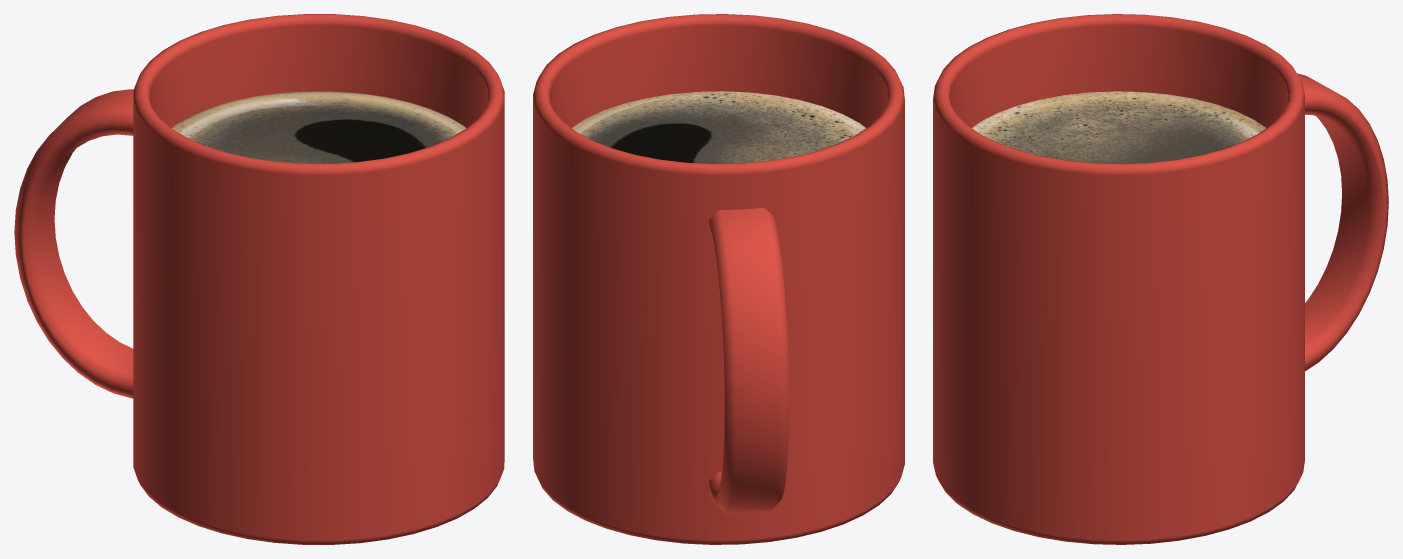
File: coffee-opt.glb
3 renders of one model, left to right at view 1: azimuth 30°, elevation 25°; view 2: azimuth 150°, elevation 25°; view 3: azimuth 270°, elevation 25°, orthographic.
Parts seen in each view (by area): view 1: Mug1_Mug_0, Mug1_Coffee_0; view 2: Mug1_Mug_0, Mug1_Coffee_0; view 3: Mug1_Mug_0, Mug1_Coffee_0.
Part boxes in pixels (x1,y1,x2,y2): Mug1_Mug_0: (14, 14, 504, 544); Mug1_Coffee_0: (171, 91, 466, 163); Mug1_Mug_0: (533, 14, 904, 544); Mug1_Coffee_0: (572, 91, 866, 163); Mug1_Mug_0: (933, 14, 1388, 544); Mug1_Coffee_0: (972, 91, 1265, 163).
Bounding box in the file's own units: 2.78 × 2.93 × 3.17.
Materials: 2 (1 with a texture image).
